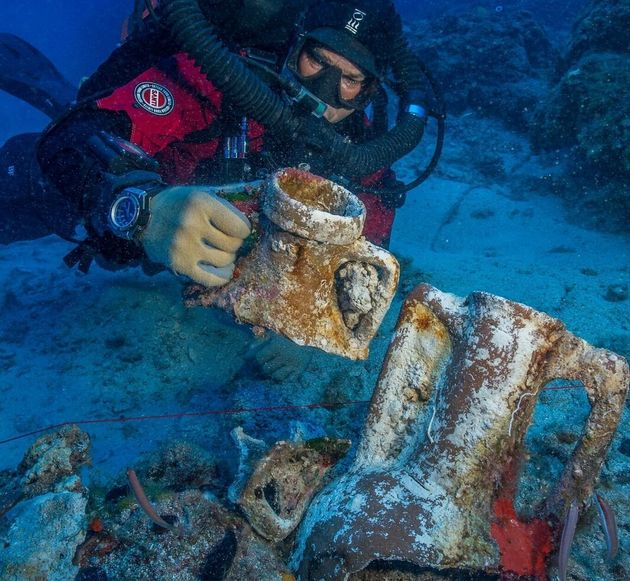amphora: (286, 272, 630, 581), (179, 166, 407, 366)
